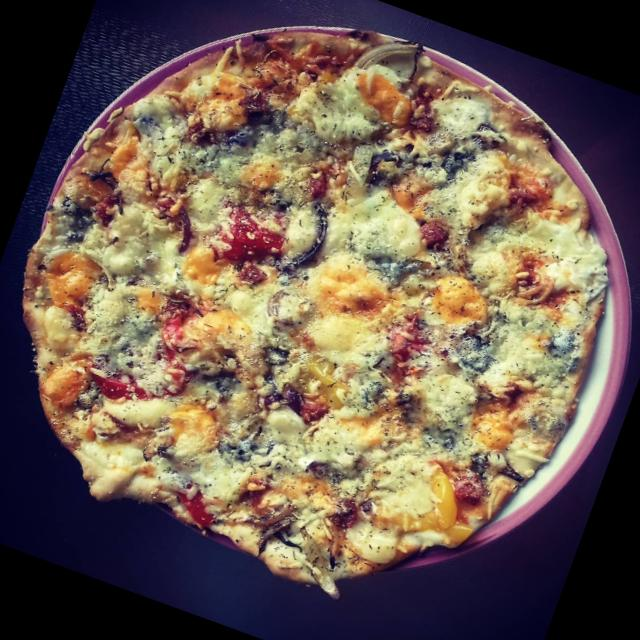mushrooms: (446, 302, 512, 379), (238, 489, 307, 558)
peppers: (359, 446, 464, 546)
pizza: (21, 34, 609, 598)
